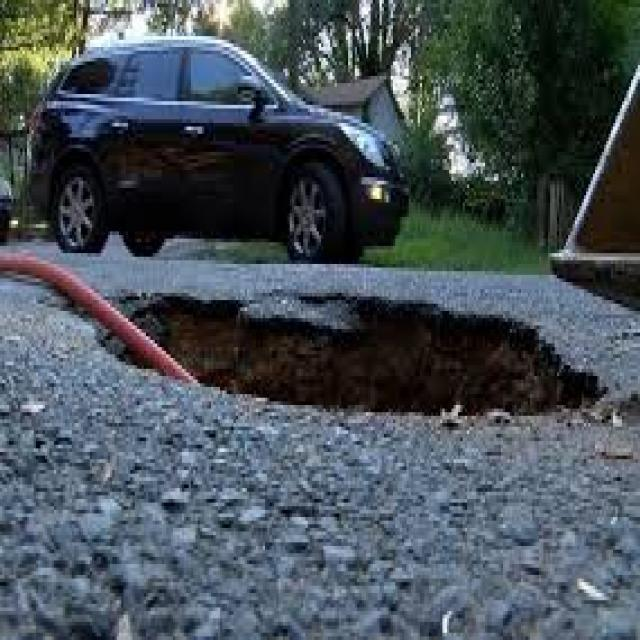Pothole: (94, 294, 600, 414)
